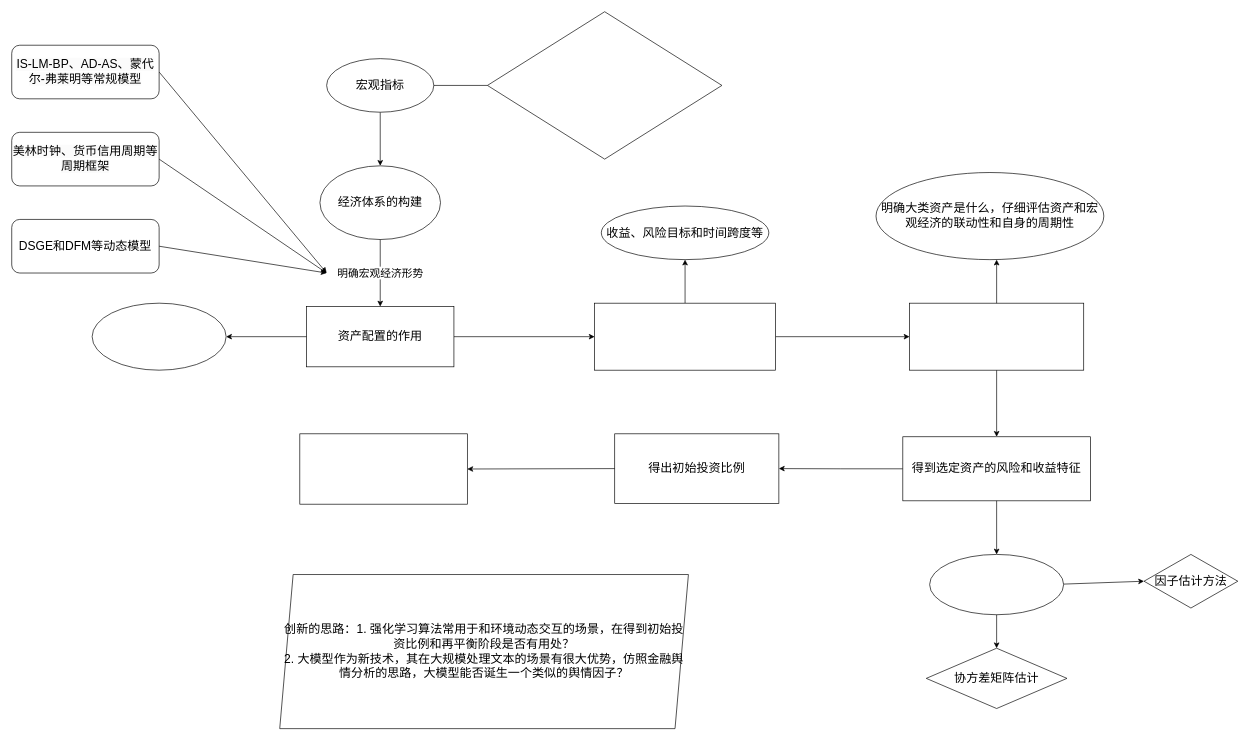
Image size: 1250x740. Some labels were removed from this diagram. Each missing label, with the centre of its shape:
"例如，复苏阶段配置股票，过热阶段配置商品" goes at point 158,336.
"执行再平衡" goes at point 383,468.
"明确投资目标和风险约束" goes at point 685,336.
"资产配置、风险配置、因子配置" goes at point 996,584.
"选定资产投资范围" goes at point 996,336.
"通胀率、 失业率、 利率、 政府赤字、 货币供应量、 国际贸易收支、汇率" goes at point 604,85.
